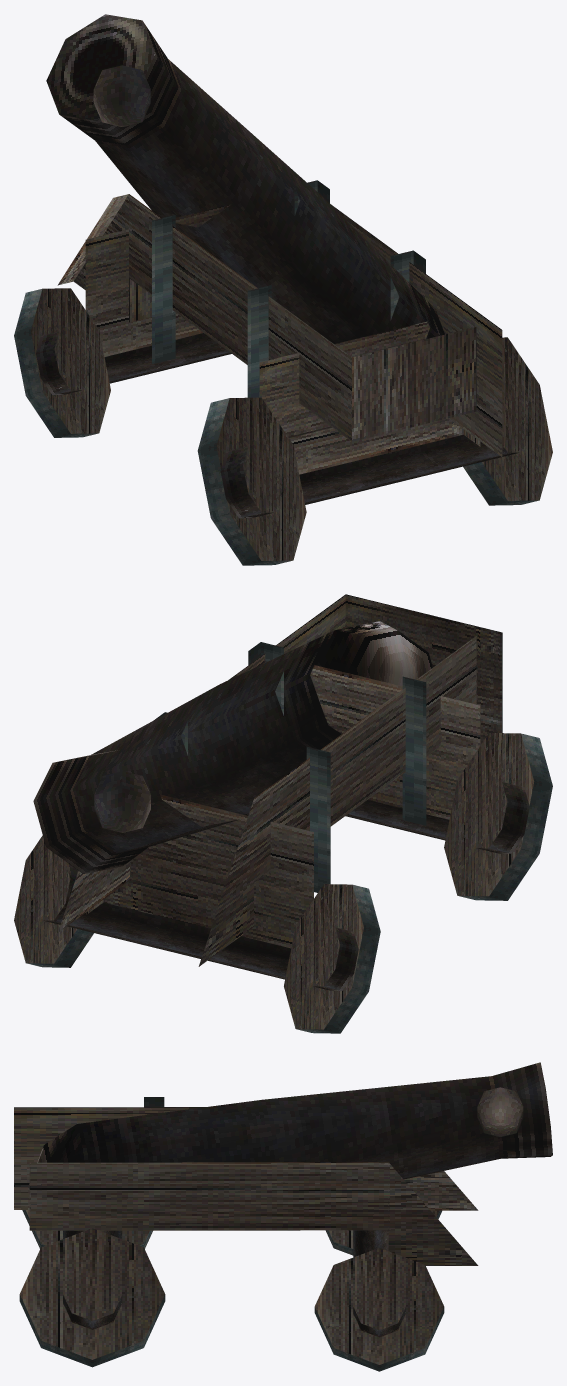
Rendered from ps2_save-icons_nobunagasambitionrisetopower.glb.
The picture shows the model from 3 angles, top to bottom: view 1: azimuth 30°, elevation 25°; view 2: azimuth 150°, elevation 25°; view 3: azimuth 270°, elevation 25°; orthographic projection. The views are drawn at different scales.
Parts seen in each view (by area): view 1: saveicon.ico; view 2: saveicon.ico; view 3: saveicon.ico.
Boxes of the visible parts, x1,y1,x2,y2 form: saveicon.ico: (14, 14, 552, 565); saveicon.ico: (14, 594, 552, 1033); saveicon.ico: (14, 1062, 552, 1371).
Bounding box in the file's own units: 1.79 × 1.69 × 3.26.
Materials: 1 (1 with a texture image).
